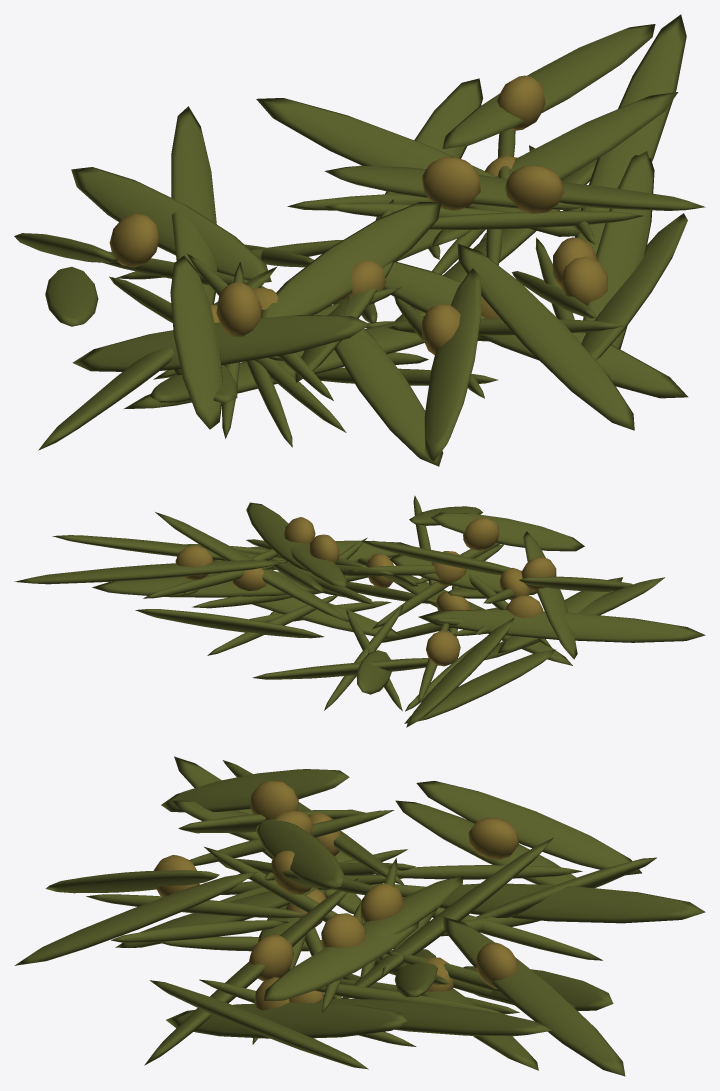
File: beach-seaweed.glb
3 views of the same model, one above another, from view 1: azimuth 30°, elevation 25°; view 2: azimuth 150°, elevation 25°; view 3: azimuth 270°, elevation 25° (orthographic). The views are drawn at different scales.
Parts seen in each view (by area): view 1: Seaweed overlapping blade.007, Seaweed overlapping blade.017, Seaweed overlapping blade.002, Seaweed overlapping blade.015, Seaweed overlapping blade.003, Seaweed overlapping blade.020, Seaweed overlapping blade.019, Seaweed overlapping blade.010, Seaweed overlapping blade.012, Seaweed overlapping blade.024, Seaweed overlapping blade.021, Seaweed overlapping blade.011 (+38 smaller); view 2: Seaweed overlapping blade.006, Seaweed overlapping blade.020, Seaweed overlapping blade.012, Seaweed overlapping blade.021, Seaweed overlapping blade.009, Seaweed overlapping blade, Seaweed overlapping blade.018, Seaweed overlapping blade.025, Seaweed overlapping blade.002, Seaweed overlapping blade.005, Seaweed overlapping blade.013, Seaweed overlapping blade.017 (+40 smaller); view 3: Seaweed overlapping blade.005, Seaweed overlapping blade.020, Seaweed overlapping blade.018, Seaweed overlapping blade.016, Seaweed overlapping blade.007, Seaweed overlapping blade.019, Seaweed overlapping blade.022, Seaweed overlapping blade.010, Seaweed overlapping blade.015, Seaweed overlapping blade.004, Seaweed overlapping blade.017, Seaweed overlapping blade.024 (+37 smaller).
Part boxes in pixels (x1,y1,x2,y2): Seaweed overlapping blade.007: (457, 243, 634, 430); Seaweed overlapping blade.017: (260, 202, 441, 318); Seaweed overlapping blade.002: (72, 315, 370, 371); Seaweed overlapping blade.015: (256, 98, 579, 236); Seaweed overlapping blade.003: (71, 167, 271, 282); Seaweed overlapping blade.020: (442, 24, 655, 149); Seaweed overlapping blade.019: (575, 14, 686, 254); Seaweed overlapping blade.010: (170, 255, 222, 429); Seaweed overlapping blade.012: (424, 268, 481, 461); Seaweed overlapping blade.024: (384, 261, 688, 398); Seaweed overlapping blade.021: (396, 92, 678, 261); Seaweed overlapping blade.011: (331, 305, 443, 466); Seaweed overlapping blade.006: (418, 609, 705, 642); Seaweed overlapping blade.020: (14, 560, 284, 584); Seaweed overlapping blade.012: (431, 512, 584, 551); Seaweed overlapping blade.021: (155, 512, 348, 622); Seaweed overlapping blade.009: (404, 649, 555, 723); Seaweed overlapping blade: (92, 575, 327, 597); Seaweed overlapping blade.018: (406, 617, 514, 727); Seaweed overlapping blade.025: (135, 609, 324, 638); Seaweed overlapping blade.002: (523, 531, 577, 659); Seaweed overlapping blade.005: (252, 658, 457, 679); Seaweed overlapping blade.013: (208, 573, 402, 638); Seaweed overlapping blade.017: (361, 540, 521, 575); Seaweed overlapping blade.005: (439, 883, 705, 923); Seaweed overlapping blade.020: (442, 916, 625, 1076); Seaweed overlapping blade.018: (416, 781, 641, 875); Seaweed overlapping blade.016: (166, 1002, 406, 1038); Seaweed overlapping blade.007: (14, 872, 257, 965); Seaweed overlapping blade.019: (314, 999, 551, 1036); Seaweed overlapping blade.022: (263, 922, 418, 1000); Seaweed overlapping blade.010: (161, 769, 349, 812); Seaweed overlapping blade.015: (341, 837, 553, 998); Seaweed overlapping blade.004: (149, 980, 368, 1069); Seaweed overlapping blade.017: (256, 817, 344, 889); Seaweed overlapping blade.024: (144, 877, 358, 1065).
Bounding box in the file's own units: 0.8109 × 0.1677 × 0.6632.
